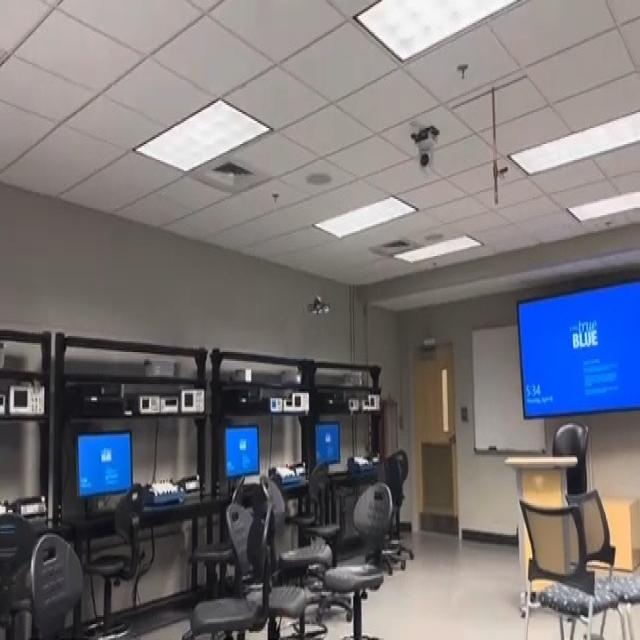drone: (295, 272, 341, 334)
